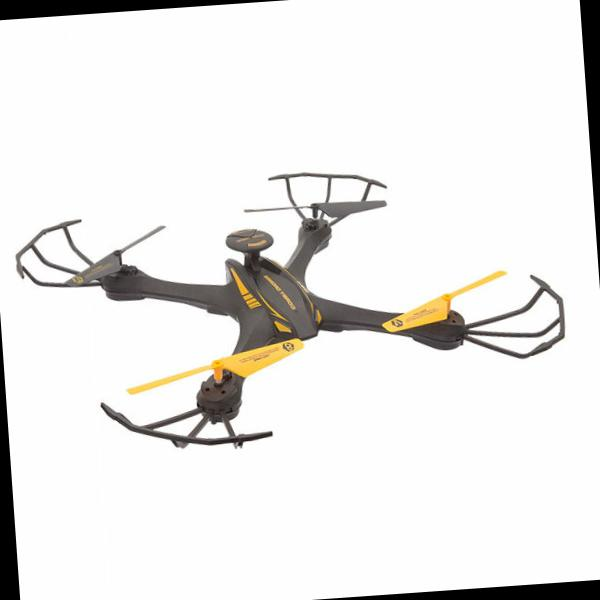drone: (0, 156, 572, 457)
